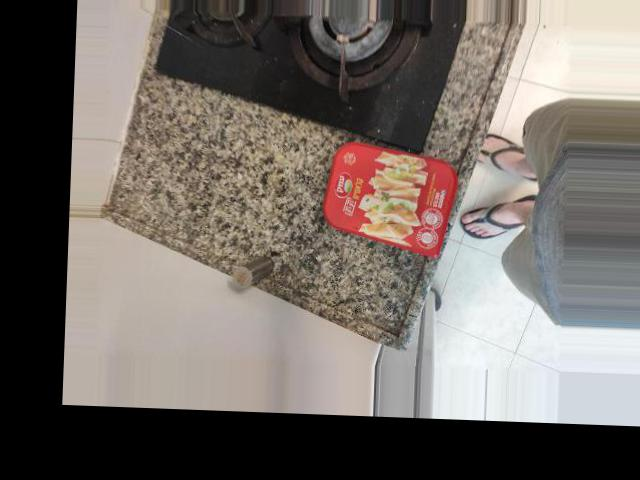cheese: (180, 114, 347, 234)
